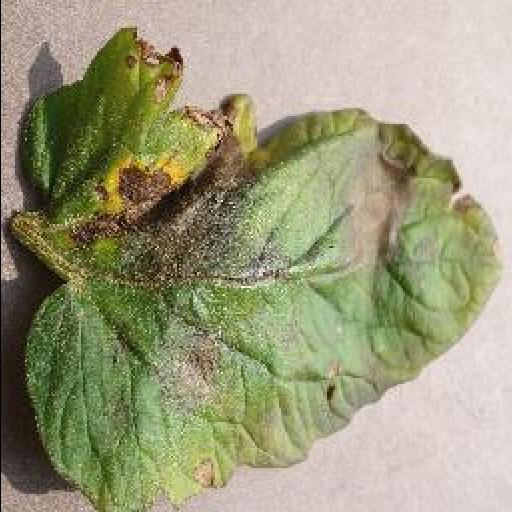disease_tomato: (24, 26, 502, 512)
